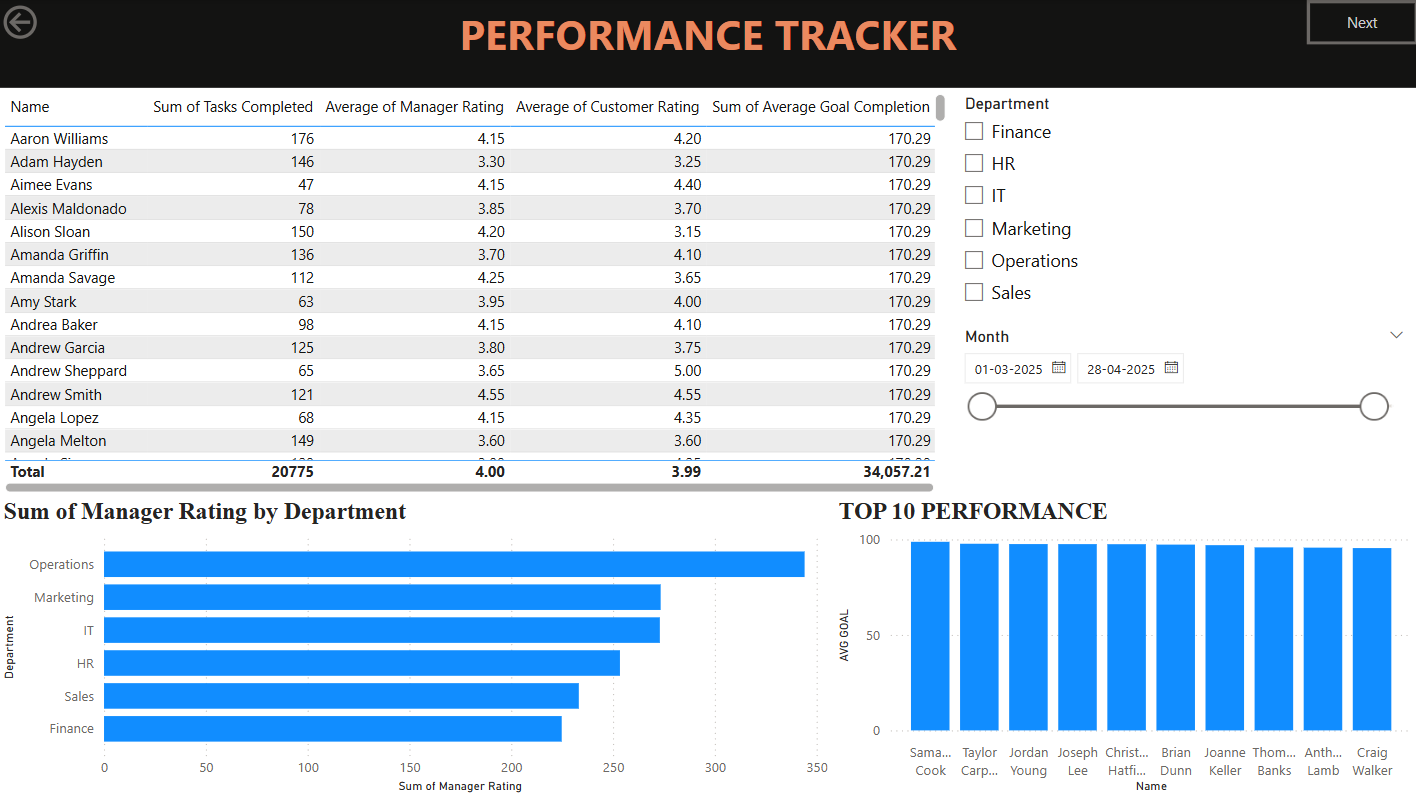

What the dashboard file says about the page in this screenshot:
{"tool":"powerbi","page":{"name":"Performance Tracker","canvas":[1280,720],"ordinal":2},"visuals":[{"type":"textbox","box":[0,0,1280.3,79.5],"z":0},{"type":"tableEx","fields":{"Values":["Employees.Name","Sum(Performance.Tasks Completed)","Avg(Performance.Manager Rating)","Avg(Performance.Customer Rating)","Sum(Performance.Average Goal Completion)"]},"box":[0,79.6,859,369.1],"z":1000},{"type":"clusteredBarChart","fields":{"Y":["Sum(Performance.Manager Rating)"],"Category":["Employees.Department"]},"box":[0,448.7,753.3,271.7],"z":2000},{"type":"clusteredColumnChart","title":"TOP 10 PERFORMANCE","fields":{"Y":["Performance.AVG GOAL"],"Category":["Employees.Name"]},"box":[753,449,527,271],"z":3000},{"type":"slicer","fields":{"Values":["Employees.Department"]},"box":[859,79.6,421.3,209.9],"z":4000},{"type":"slicer","fields":{"Values":["Performance.Month"]},"box":[859,289.5,421.3,159.2],"z":5000},{"type":"actionButton","box":[0,0,100,40],"z":6000},{"type":"actionButton","box":[1180,0,100.3,40.4],"z":7000}]}

Visuals, with their boxes in screenshot pixels (x1, y1, x2, y2), scaled from the page's 1280x720 canvas onto the 1416x798 screenshot:
textbox: bbox=(0, 0, 1415, 88)
tableEx - Employees.Name x Sum(Performance.Tasks Completed): bbox=(0, 88, 950, 497)
clusteredBarChart - Sum(Performance.Manager Rating) x Employees.Department: bbox=(0, 497, 833, 797)
"TOP 10 PERFORMANCE" clusteredColumnChart: bbox=(833, 498, 1415, 797)
slicer - Employees.Department: bbox=(950, 88, 1415, 321)
slicer - Performance.Month: bbox=(950, 321, 1415, 497)
actionButton: bbox=(0, 0, 111, 44)
actionButton: bbox=(1305, 0, 1415, 45)
